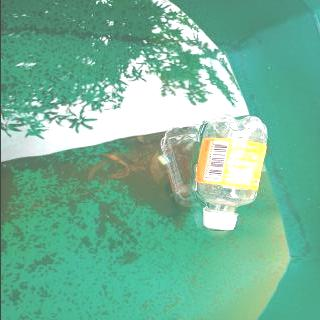bottle: (190, 113, 274, 235)
